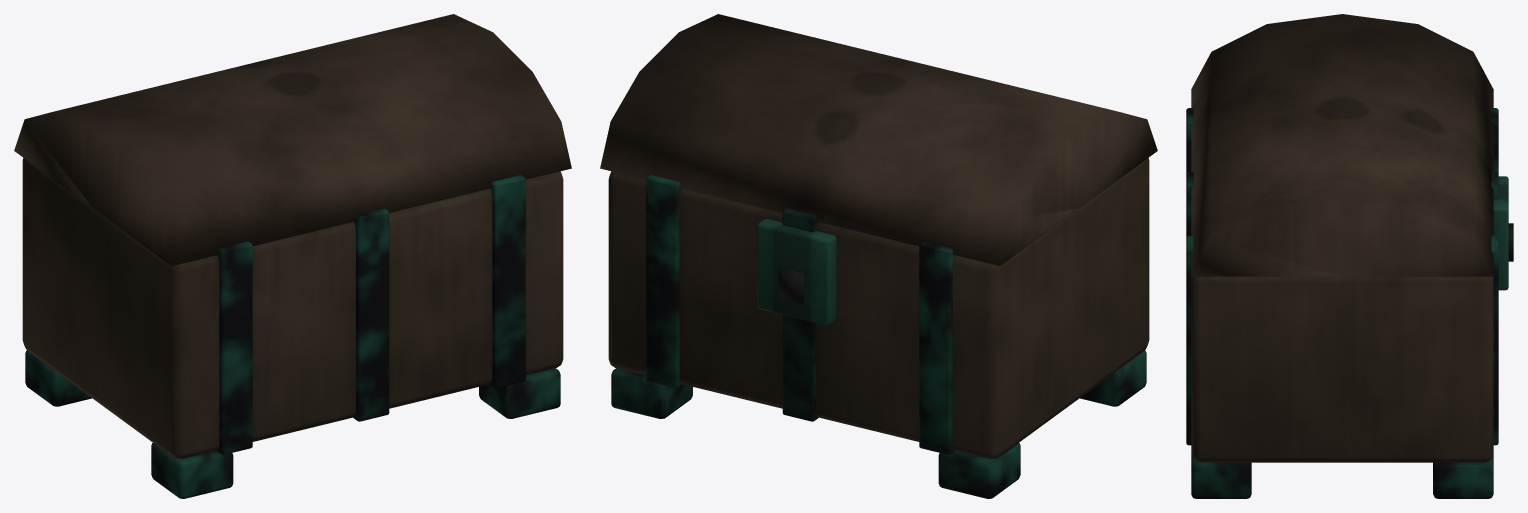
File: storm_coffer.obj
3 renders of one model, left to right at view 1: azimuth 30°, elevation 25°; view 2: azimuth 150°, elevation 25°; view 3: azimuth 270°, elevation 25°, orthographic. The views are drawn at different scales.
Parts seen in each view (by area): view 1: part0, part1; view 2: part0, part1, part2, part3; view 3: part0, part1, part2.
Boxes of the visible parts, x1,y1,x2,y2 form: part0: (14,14,571,458); part1: (25,175,560,498); part0: (600,14,1157,458); part1: (611,175,1146,498); part2: (757,218,836,325); part3: (778,268,803,303); part0: (1191,14,1493,462); part1: (1186,108,1498,498); part2: (1493,176,1508,290).
Bounding box in the file's own units: 0.88 × 0.665 × 0.65.
